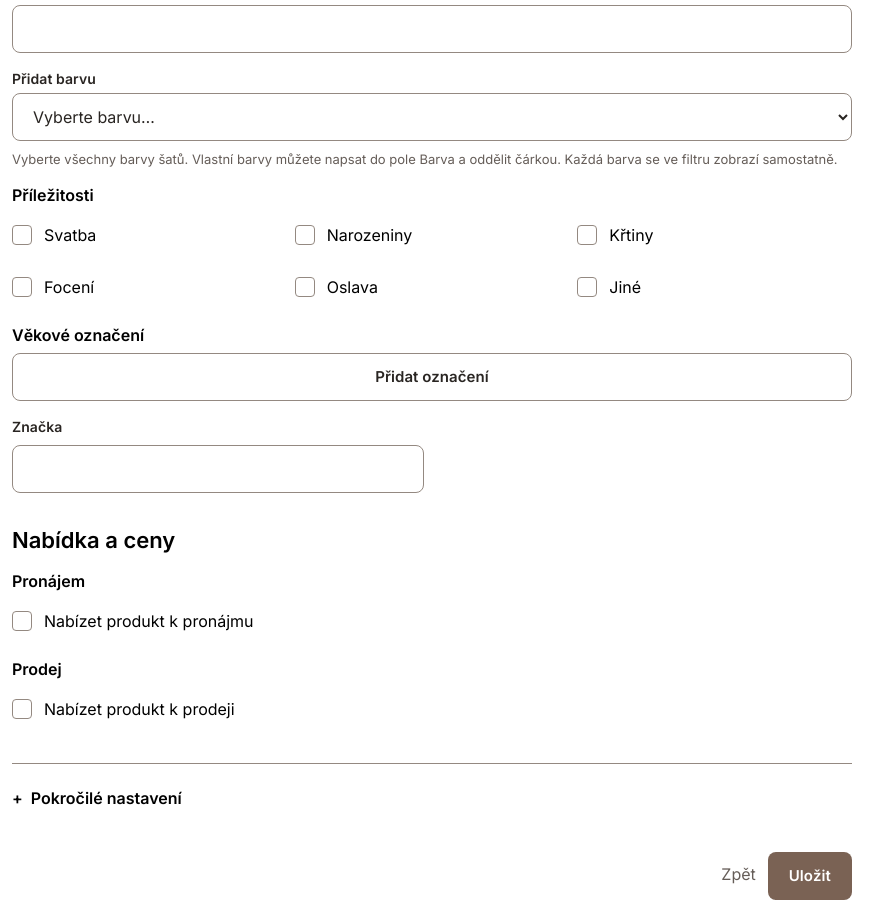
Test case: creation requires classification and hides manual name and URL
This screenshot has width=869, height=900.
(page scrolled)
Click the button "Uložit": (810, 876) [768,852,852,899]
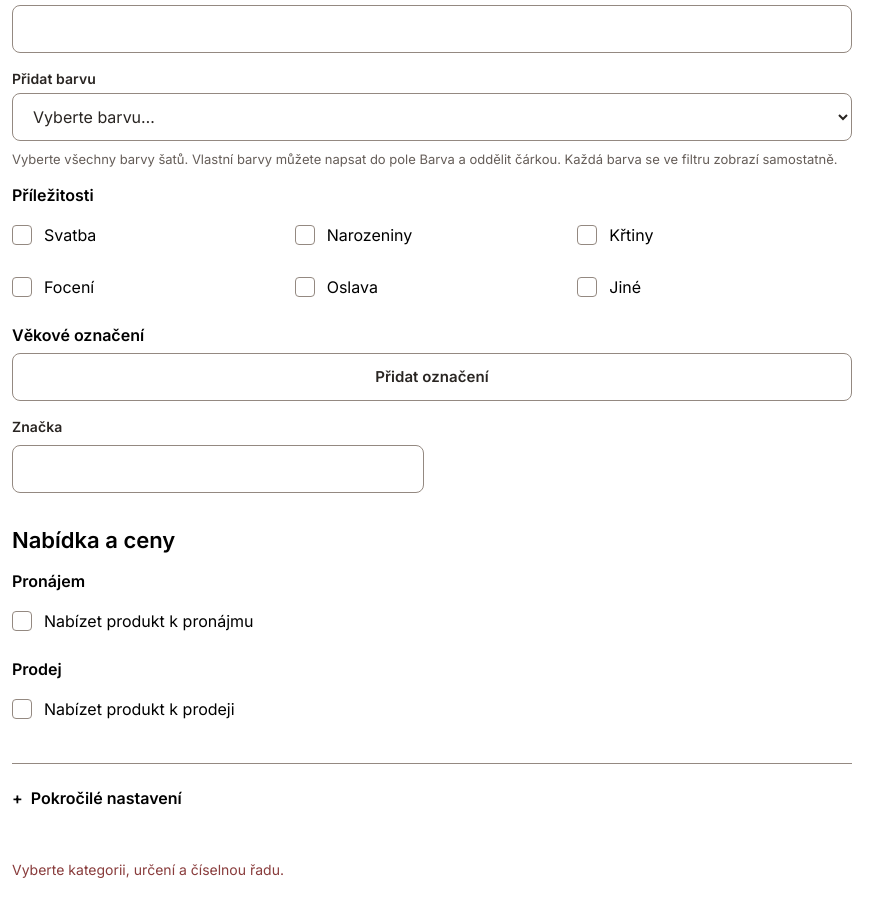
Result: the text "Vyberte kategorii, určení a číselnou řadu." is shown at [12,861,284,878]
